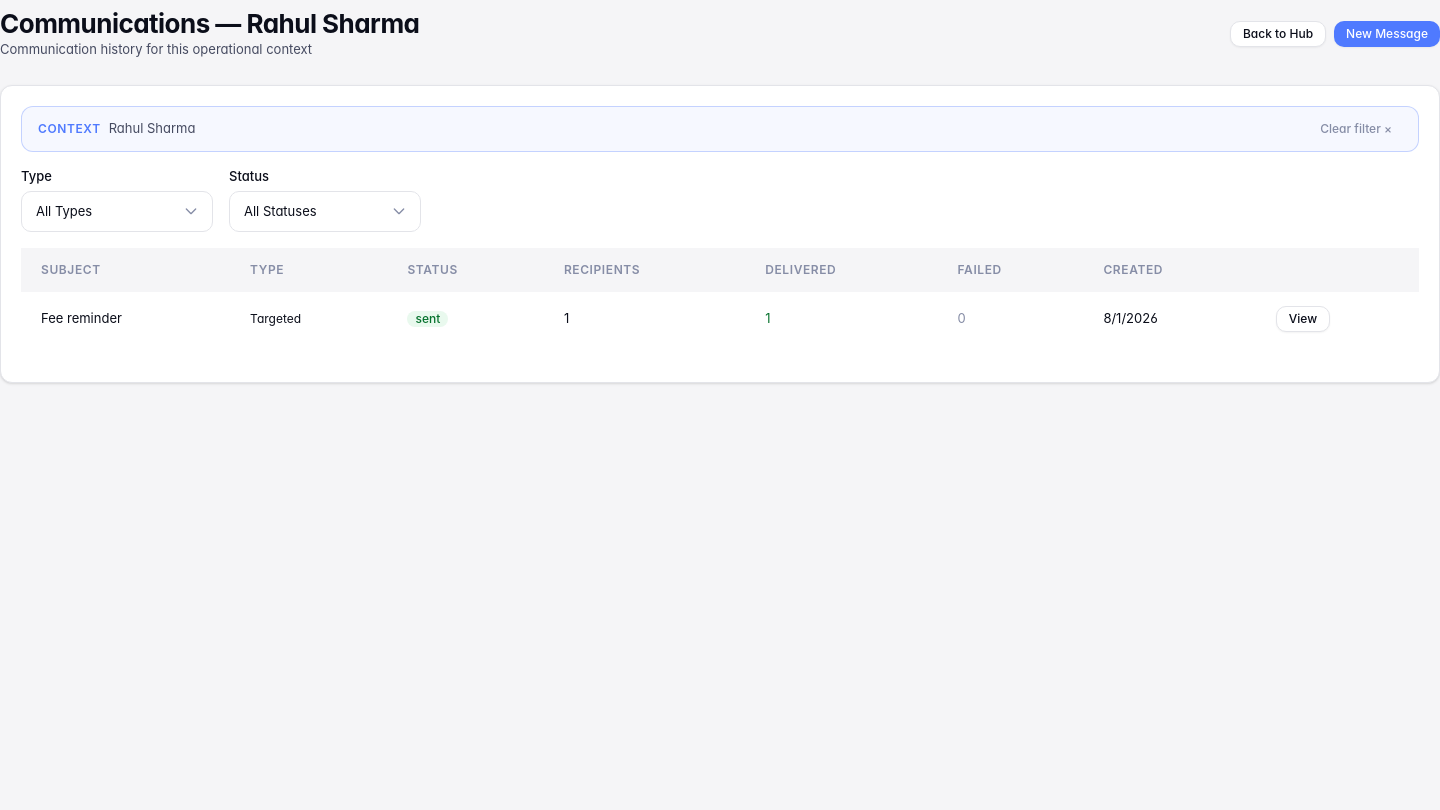
Scenario: Sent messages — P15 context filtering › surfaces the linked context in the message detail
The image size is (1440, 810).
Expected: the text "Fee reminder" is shown, [21,292,230,346]
Click the button "View".
click(1303, 319)  # box [1276,306,1330,332]
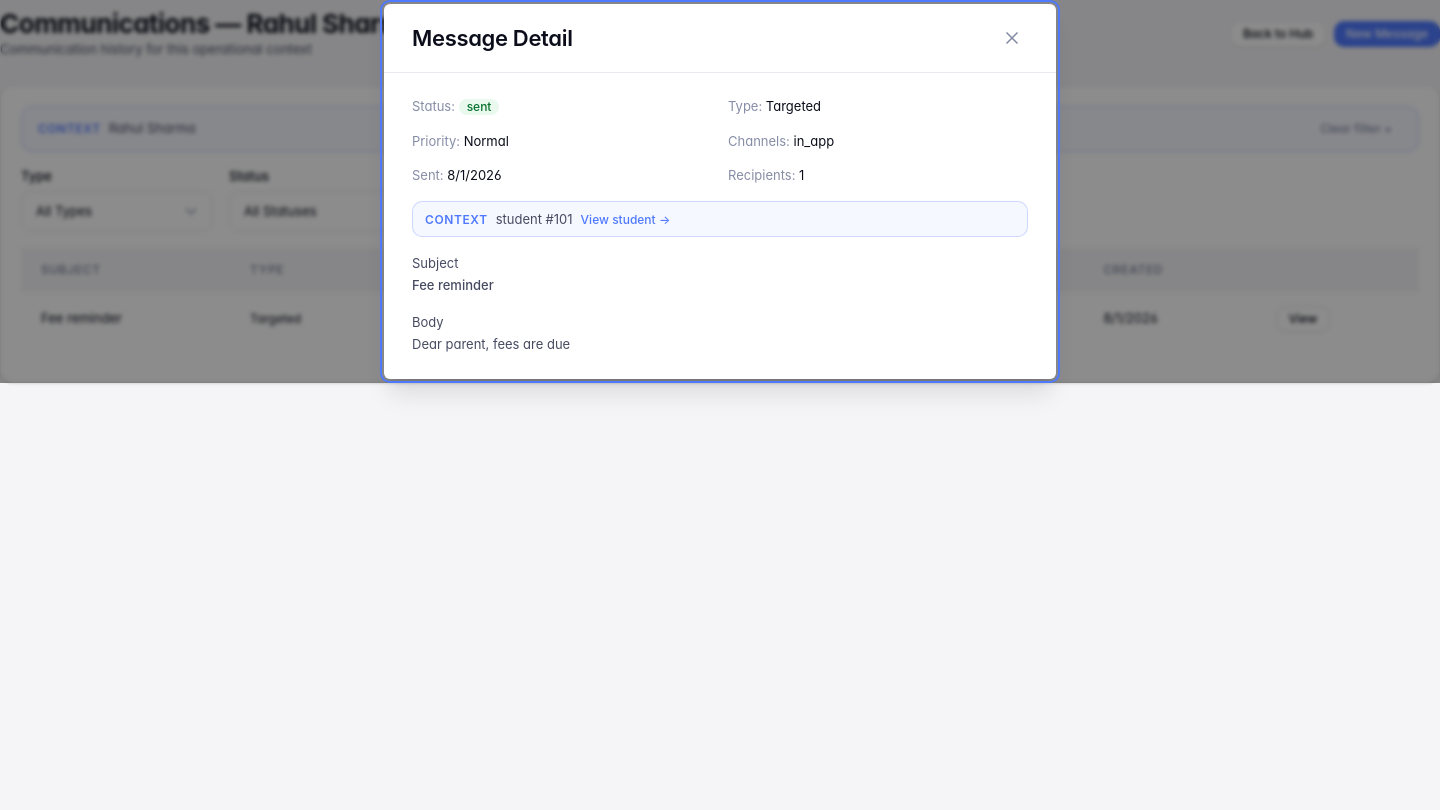
Expected: the 1st text "Context" is shown, [38,121,101,136]
Expected: the text "student #101" is shown, [496,211,573,227]
